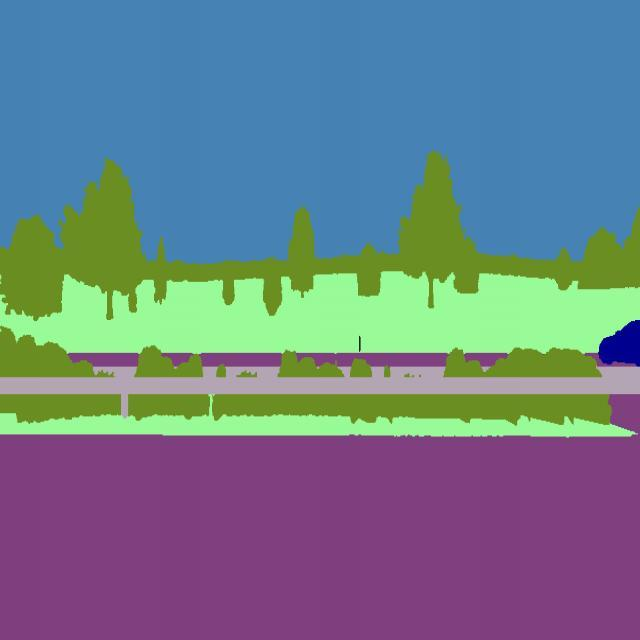safe: (596, 309, 640, 373)
